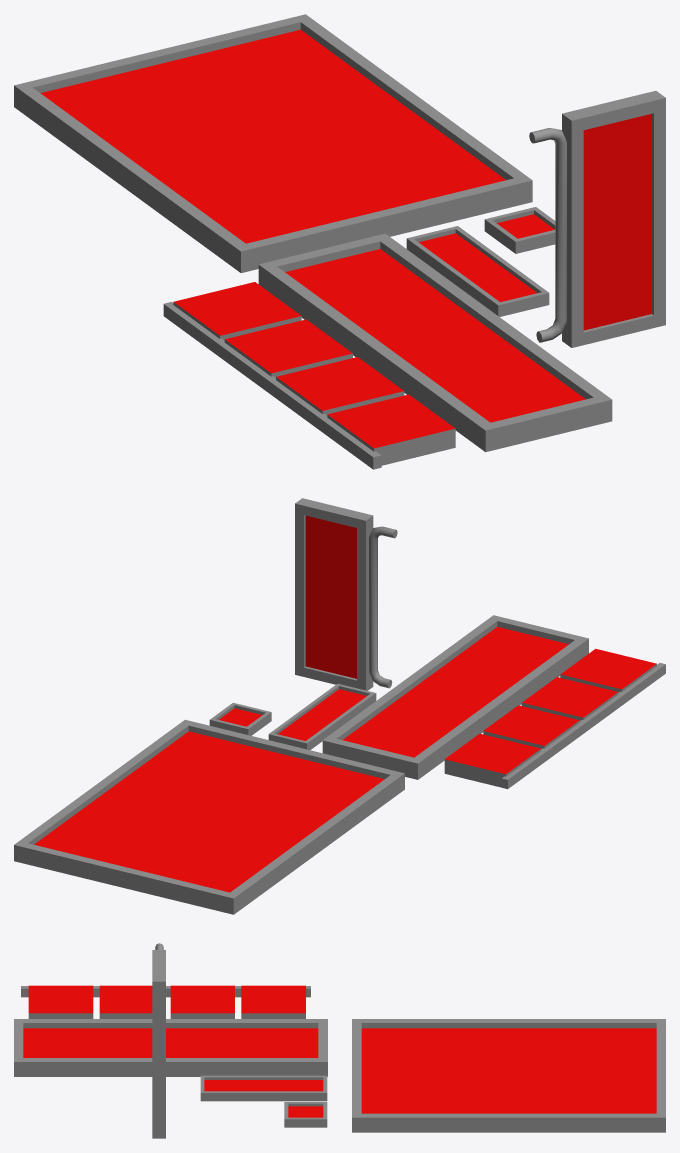
The model's file is M_Signs.FBX.
The picture shows the model from 3 angles, top to bottom: view 1: azimuth 30°, elevation 25°; view 2: azimuth 150°, elevation 25°; view 3: azimuth 270°, elevation 25°; orthographic projection. The views are drawn at different scales.
Parts seen in each view (by area): view 1: M_Block_Billboard_B, M_Block_Billboard_C, M_Block_Billboard_A, M_Block_Billboard_G, M_Block_Billboard_D, M_Block_Billboard_F; view 2: M_Block_Billboard_B, M_Block_Billboard_C, M_Block_Billboard_A, M_Block_Billboard_G, M_Block_Billboard_D, M_Block_Billboard_F; view 3: M_Block_Billboard_B, M_Block_Billboard_C, M_Block_Billboard_G, M_Block_Billboard_D, M_Block_Billboard_A, M_Block_Billboard_F.
Part boxes in pixels (left/top/right/bottom): M_Block_Billboard_B: left=14, top=14, right=532, bottom=273; M_Block_Billboard_C: left=258, top=233, right=612, bottom=452; M_Block_Billboard_A: left=529, top=90, right=665, bottom=347; M_Block_Billboard_G: left=163, top=282, right=455, bottom=469; M_Block_Billboard_D: left=406, top=226, right=549, bottom=316; M_Block_Billboard_F: left=484, top=207, right=555, bottom=253; M_Block_Billboard_B: left=14, top=719, right=404, bottom=914; M_Block_Billboard_C: left=322, top=615, right=588, bottom=779; M_Block_Billboard_A: left=295, top=498, right=397, bottom=690; M_Block_Billboard_G: left=444, top=648, right=665, bottom=789; M_Block_Billboard_D: left=268, top=683, right=376, bottom=749; M_Block_Billboard_F: left=209, top=702, right=271, bottom=735; M_Block_Billboard_B: left=352, top=1019, right=665, bottom=1132; M_Block_Billboard_C: left=14, top=1019, right=327, bottom=1076; M_Block_Billboard_G: left=21, top=985, right=310, bottom=1018; M_Block_Billboard_D: left=200, top=1075, right=327, bottom=1101; M_Block_Billboard_A: left=152, top=943, right=165, bottom=1138; M_Block_Billboard_F: left=284, top=1102, right=327, bottom=1127.
Bounding box in the file's own units: 1431 × 2931 × 780.
